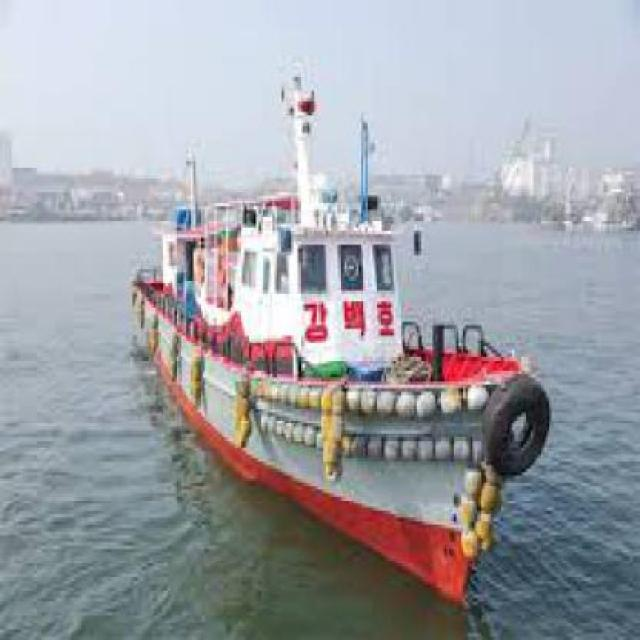fish-b: (124, 47, 563, 618)
